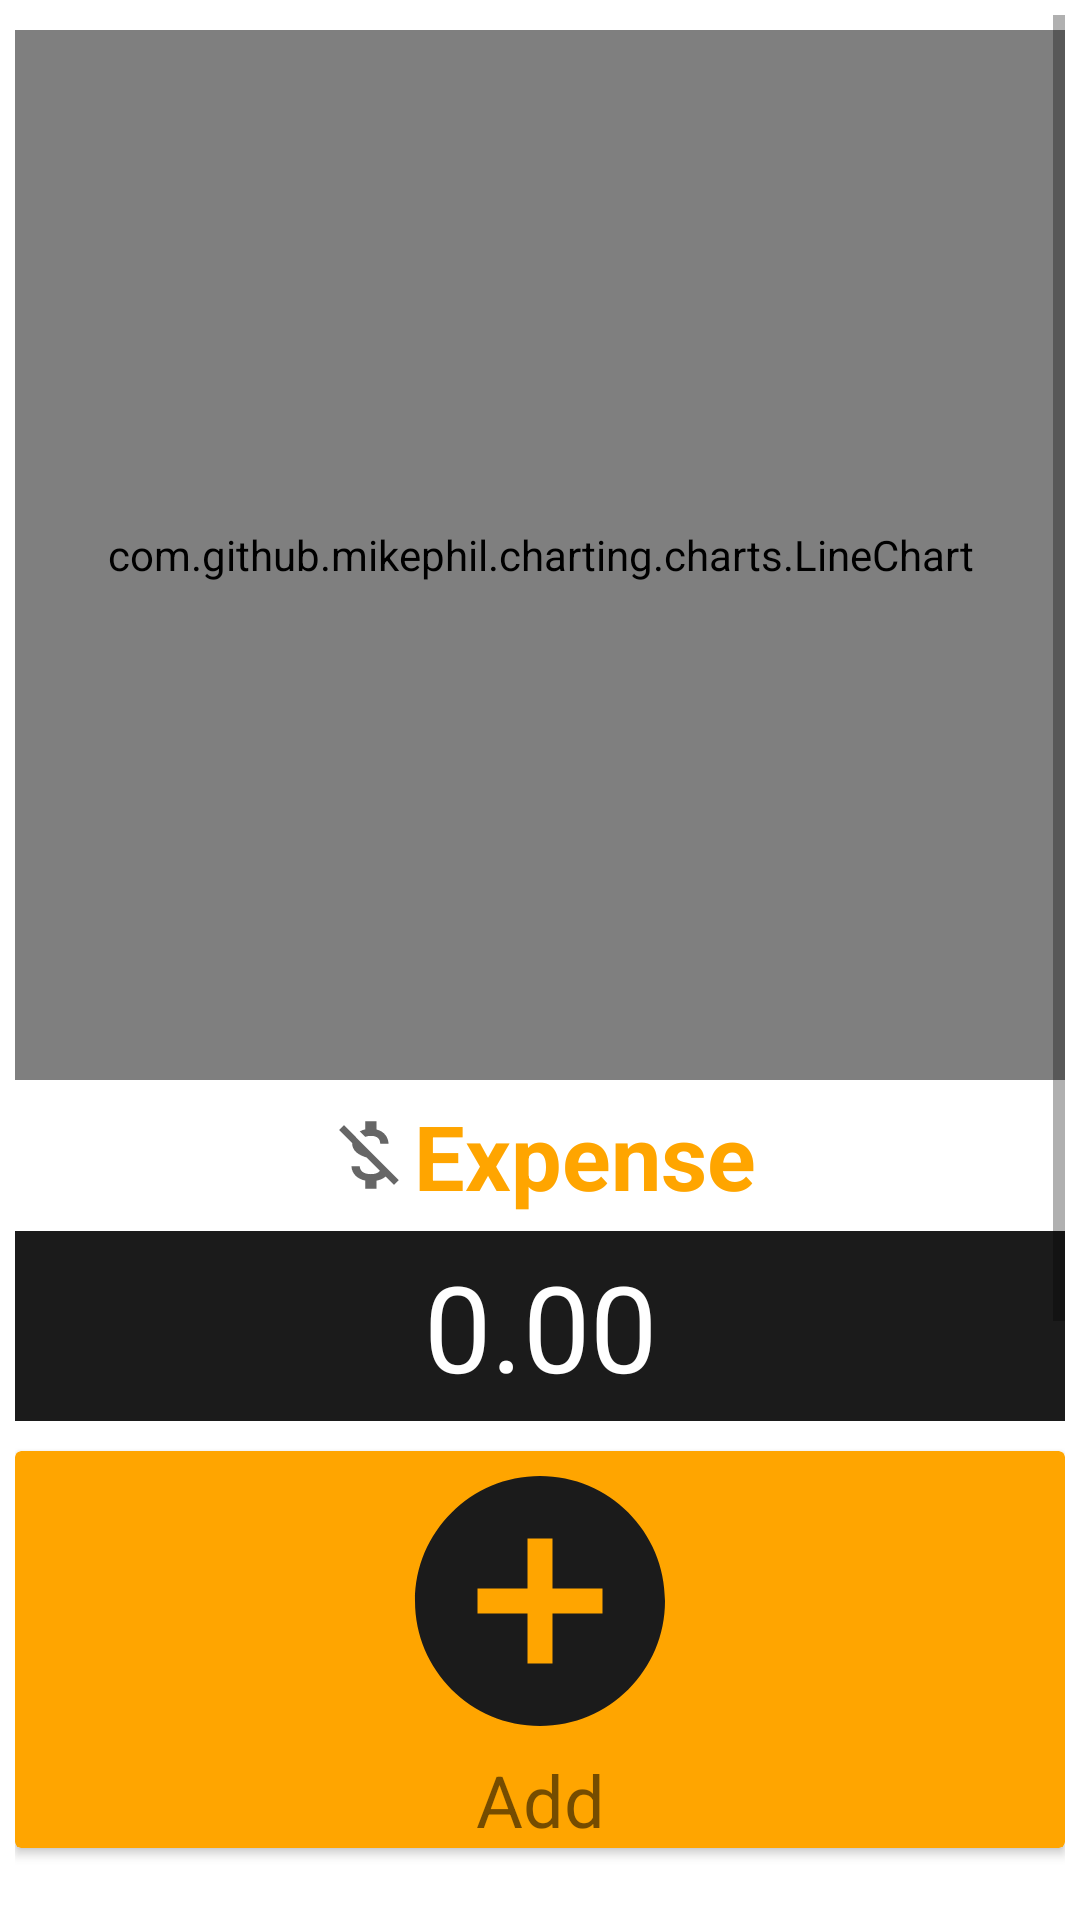

Icon bounding boxes for this 1080x1920 phone screenshot, format (x1, y1, x2, y2):
add circle: (415, 1476, 665, 1726)
